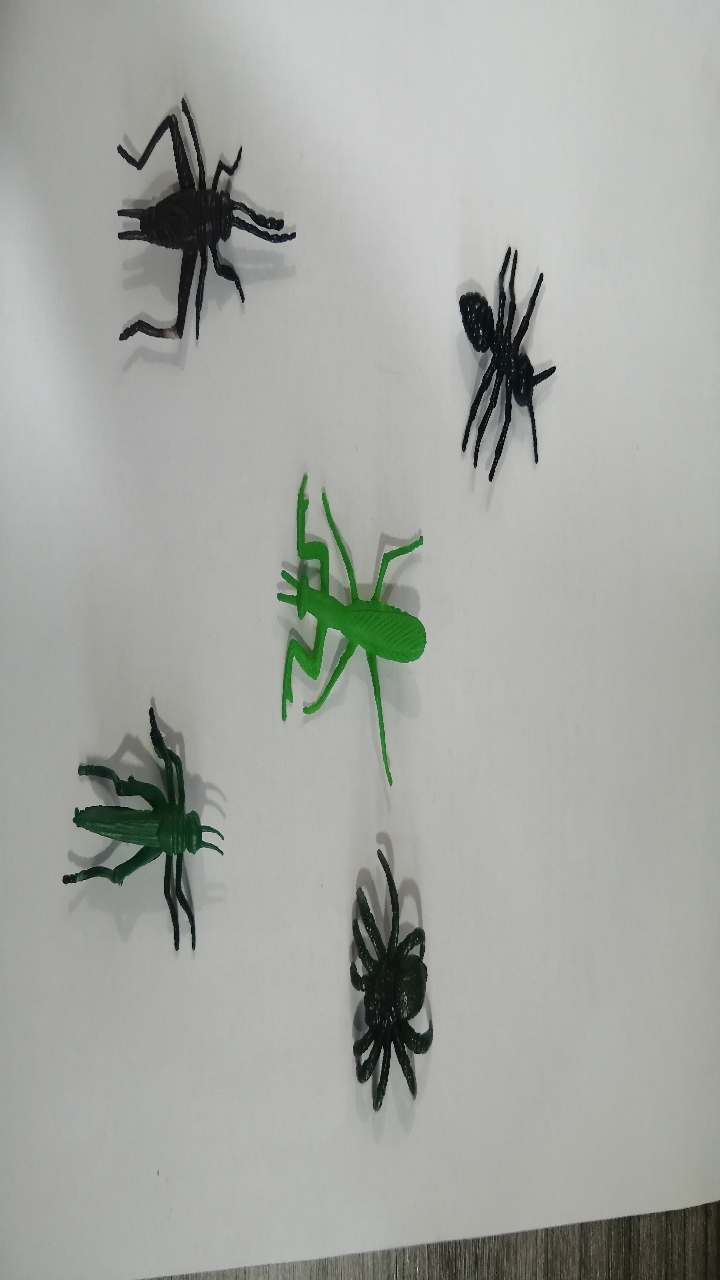intruso: (217, 460, 466, 805), (66, 86, 309, 385), (394, 215, 601, 492), (51, 697, 244, 972), (301, 829, 469, 1132)
